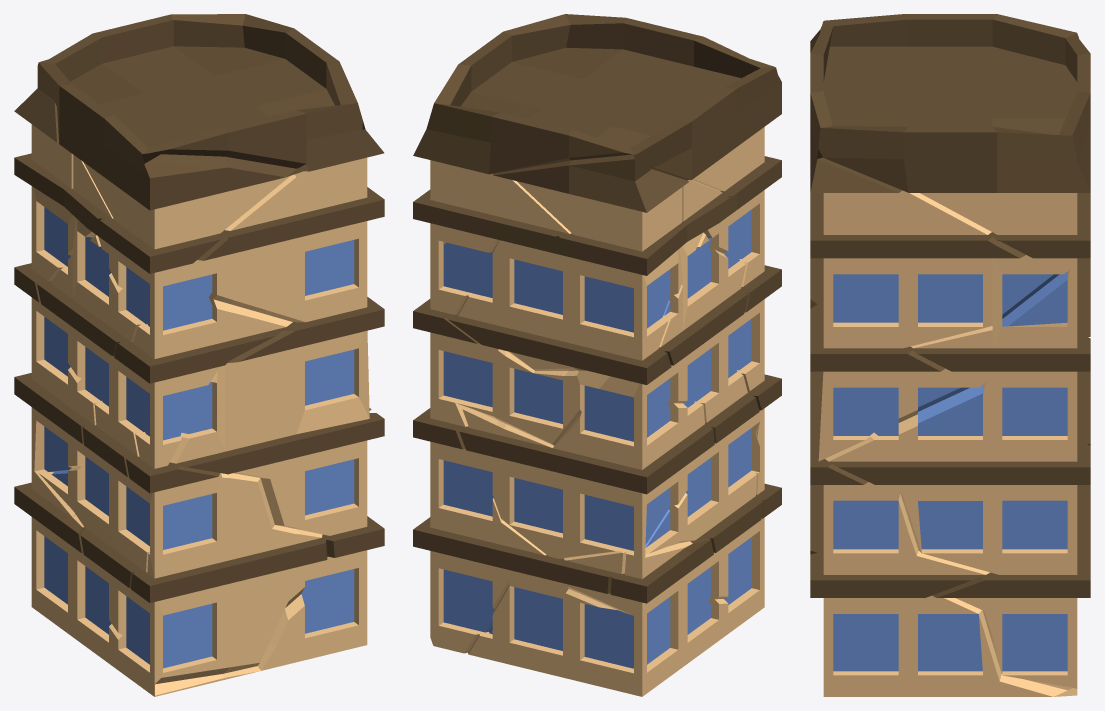
The model's file is NewestBuilding5.fbx.
3 renders of one model, left to right at view 1: azimuth 30°, elevation 25°; view 2: azimuth 150°, elevation 25°; view 3: azimuth 270°, elevation 25°, orthographic. The views are drawn at different scales.
Parts seen in each view (by area): view 1: B1; view 2: B1; view 3: B1.
Part boxes in pixels (left/top/right/bottom): B1: left=14, top=14, right=384, bottom=696; B1: left=413, top=14, right=781, bottom=696; B1: left=810, top=14, right=1090, bottom=696.
Size of the model in its own units: 649 by 1453 by 647.
